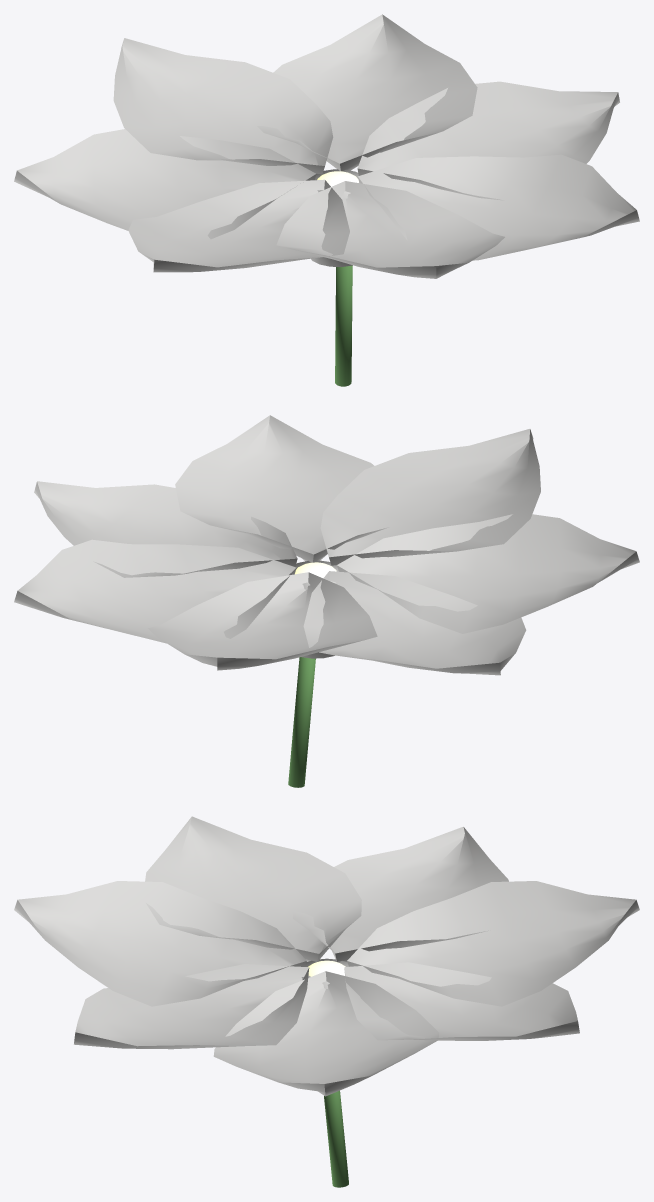
File: jasmine.glb
3 renders of one model, top to bottom at view 1: azimuth 30°, elevation 25°; view 2: azimuth 150°, elevation 25°; view 3: azimuth 270°, elevation 25°, orthographic.
Visible parts, largest first — view 1: JasmineFlower; view 2: JasmineFlower; view 3: JasmineFlower.
Boxes of the visible parts, left/top/right/bottom form: JasmineFlower: left=14, top=14, right=639, bottom=386; JasmineFlower: left=14, top=415, right=639, bottom=787; JasmineFlower: left=14, top=816, right=639, bottom=1187.
Bounding box in the file's own units: 0.2921 × 0.132 × 0.2978.
